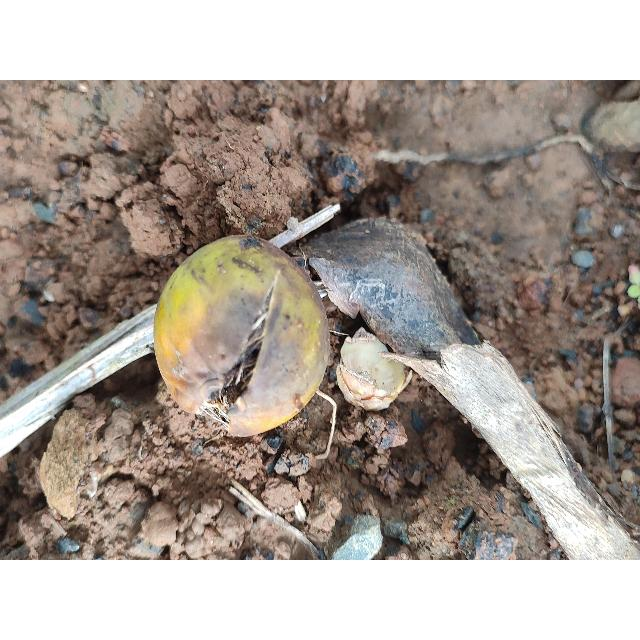damaged: (153, 235, 333, 439)
